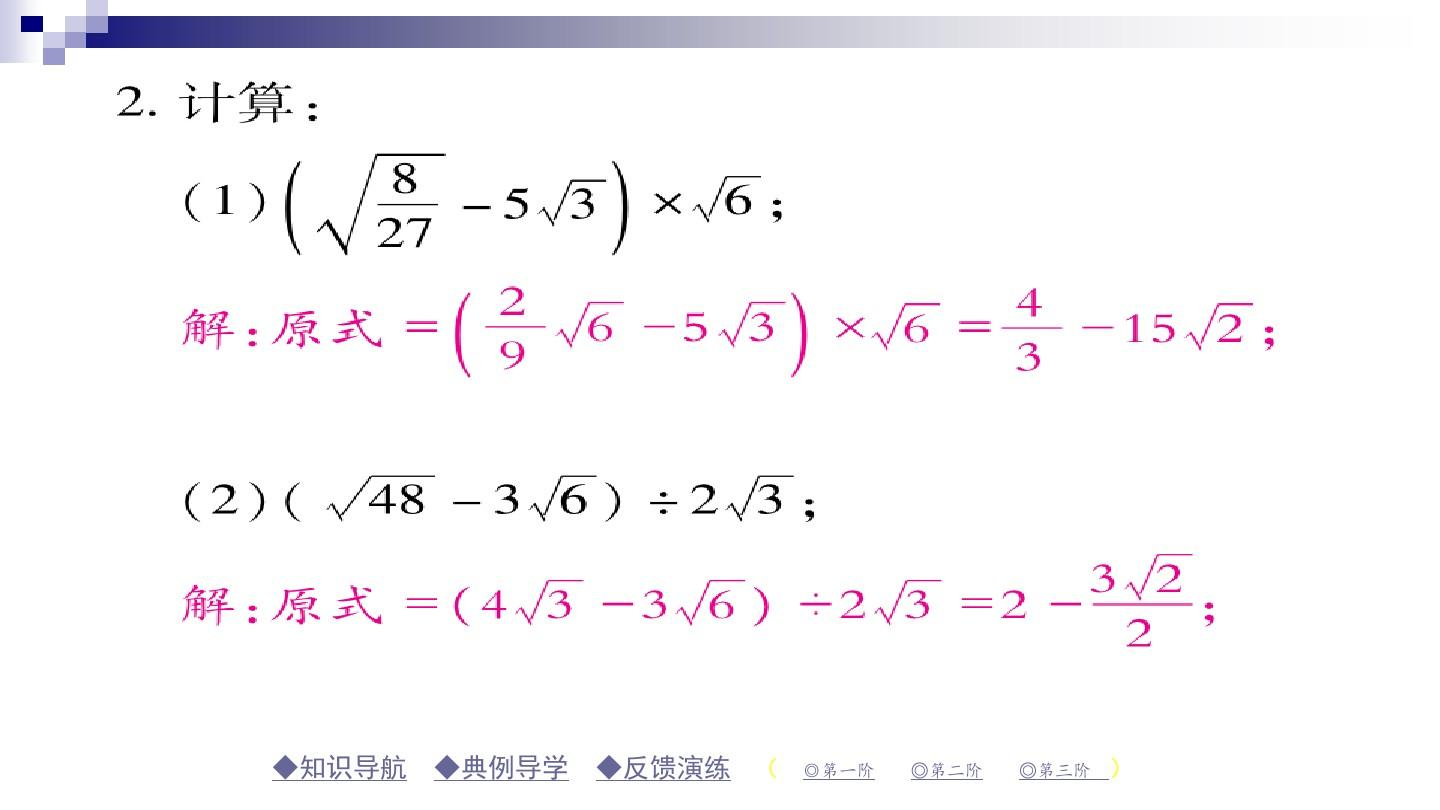division: (1090, 593, 1192, 613), (368, 198, 443, 213), (484, 320, 550, 335), (999, 320, 1057, 337)
sqrt: (312, 141, 451, 258), (324, 465, 437, 529), (863, 294, 942, 358), (535, 174, 617, 231), (689, 168, 764, 228), (1188, 296, 1258, 358), (675, 572, 748, 629), (547, 294, 627, 345), (729, 467, 797, 527), (716, 298, 791, 351), (1119, 548, 1195, 599), (535, 470, 609, 522), (513, 575, 586, 627), (878, 576, 946, 626)
